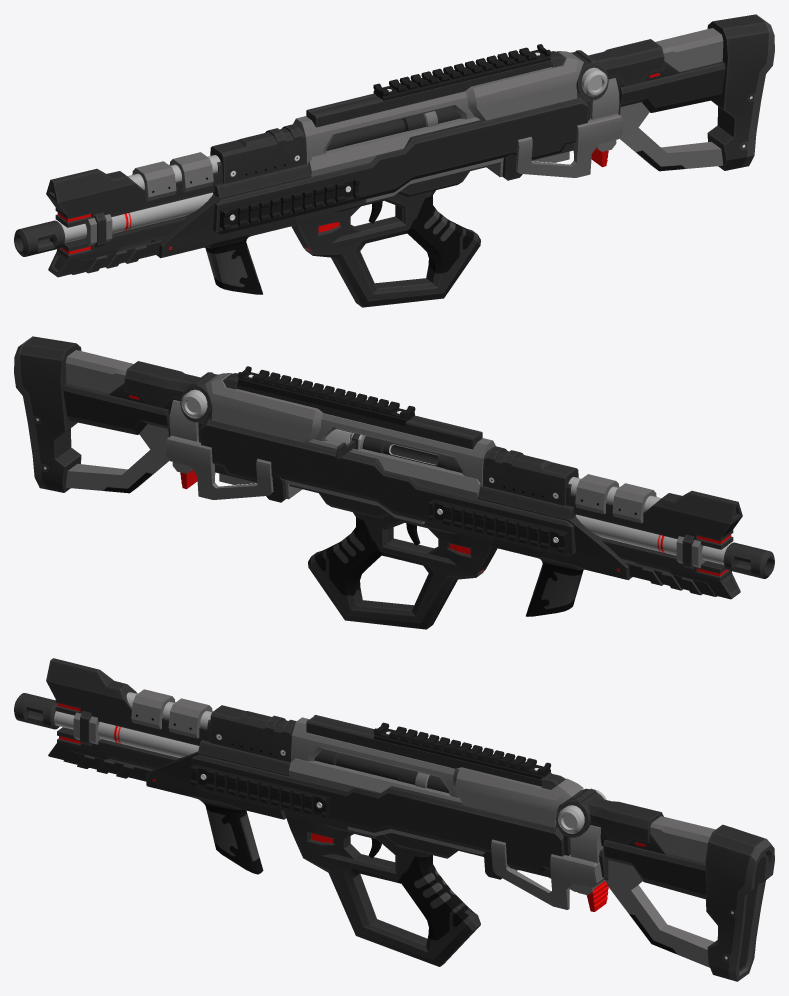
The model's file is BullPup_NoMag.fbx.
The picture shows the model from 3 angles, top to bottom: view 1: azimuth 30°, elevation 25°; view 2: azimuth 150°, elevation 25°; view 3: azimuth 330°, elevation 25°; orthographic projection.
Parts seen in each view (by area): view 1: Cube.031, Cube.036, Cube.044, Cube.033, Cube.034, Cube.035, Cube.039, Cube.041, Cube.062, Cube.001; view 2: Cube.031, Cube.036, Cube.044, Cube.033, Cube.034, Cube.035, Cube.039, Cube.041, Cube.062, Cube.001; view 3: Cube.031, Cube.036, Cube.044, Cube.033, Cube.034, Cube.035, Cube.039, Cube.041, Cube.062, Cube.001.
Boxes of the visible parts, x1,y1,x2,y2 form: Cube.031: (291,14,774,307); Cube.036: (72,51,583,274); Cube.044: (213,97,588,234); Cube.033: (46,161,222,277); Cube.034: (151,164,311,294); Cube.035: (14,155,220,256); Cube.039: (373,44,550,100); Cube.041: (219,177,359,230); Cube.062: (326,107,461,150); Cube.001: (570,50,608,100); Cube.031: (14,336,497,629); Cube.036: (205,373,716,596); Cube.044: (200,419,575,556); Cube.033: (566,483,742,599); Cube.034: (477,486,637,616); Cube.035: (568,477,774,578); Cube.039: (237,366,415,425); Cube.041: (428,499,569,552); Cube.062: (338,429,462,472); Cube.001: (180,372,218,422); Cube.031: (284,773,774,981); Cube.036: (63,689,583,827); Cube.044: (191,754,564,877); Cube.033: (46,658,210,768); Cube.034: (146,740,290,874); Cube.035: (14,692,211,757); Cube.039: (373,722,551,779); Cube.041: (190,764,330,817); Cube.062: (314,749,448,793); Cube.001: (556,788,606,837).
Size of the model in its own units: 17.87 by 183 by 52.44.
